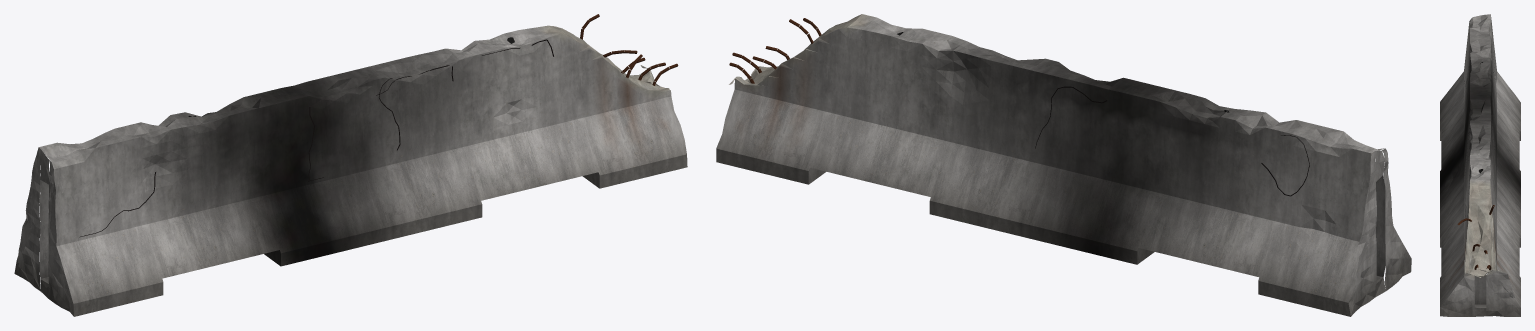
File: detail-barrier-strong-damaged.glb
3 views of the same model, side by side, from view 1: azimuth 30°, elevation 25°; view 2: azimuth 150°, elevation 25°; view 3: azimuth 270°, elevation 25° (orthographic). The views are drawn at different scales.
Visible parts, largest first — view 1: detail-barrier-strong-damaged2; view 2: detail-barrier-strong-damaged2; view 3: detail-barrier-strong-damaged2.
Part boxes in pixels (box(x1,y1,x2,y2)): detail-barrier-strong-damaged2: box(14, 14, 687, 316); detail-barrier-strong-damaged2: box(716, 14, 1411, 316); detail-barrier-strong-damaged2: box(1440, 14, 1520, 316).
Bounding box in the file's own units: 0.5977 × 0.1287 × 0.0968.
1 material, 1 textured.
